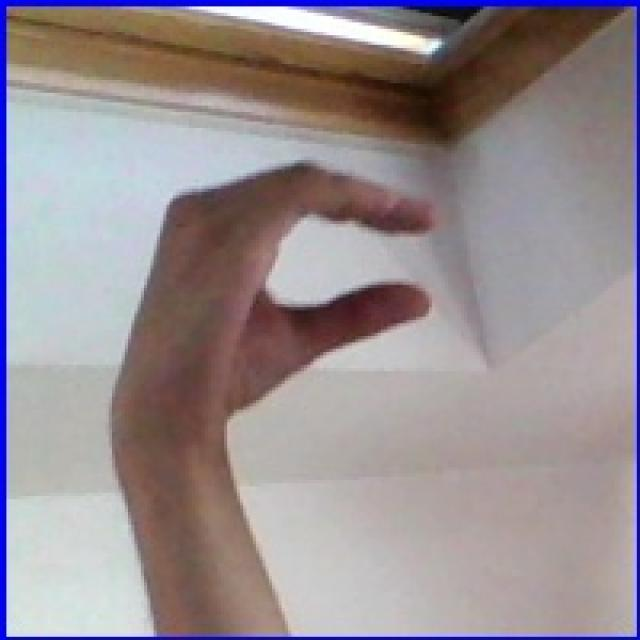Letra C: (104, 148, 462, 474)
